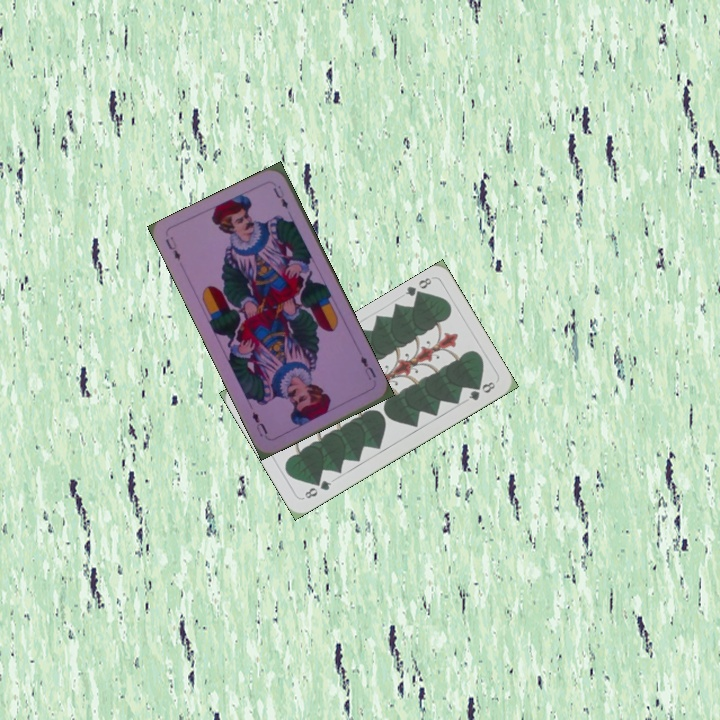EU: (356, 351, 379, 383), (161, 232, 183, 263)
G8: (401, 273, 434, 302), (299, 476, 334, 501)
